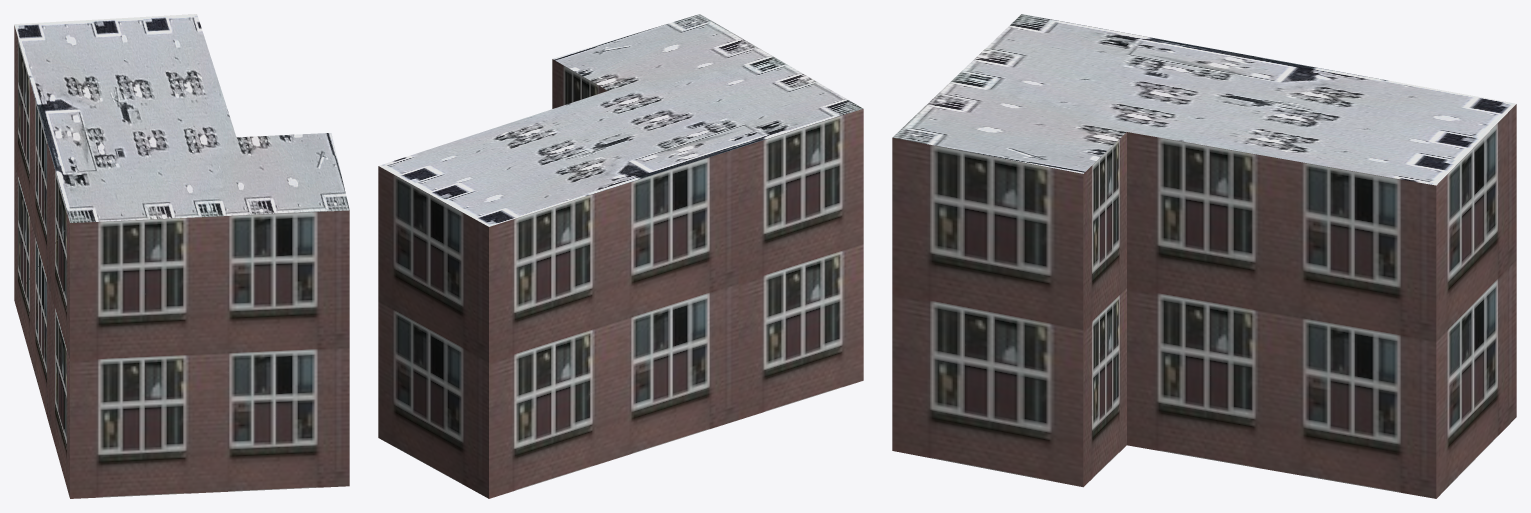
The model's file is ResTex__2569.fbx.
3 renders of one model, left to right at view 1: azimuth 30°, elevation 25°; view 2: azimuth 150°, elevation 25°; view 3: azimuth 270°, elevation 25°, orthographic. The views are drawn at different scales.
Visible parts, largest first — view 1: CityEngineMaterial_12_m, CityEngineMaterial_8_m; view 2: CityEngineMaterial_12_m, CityEngineMaterial_8_m; view 3: CityEngineMaterial_12_m, CityEngineMaterial_8_m.
Boxes of the visible parts, bbox=[...] form: CityEngineMaterial_12_m: bbox=[14, 25, 349, 498]; CityEngineMaterial_8_m: bbox=[14, 14, 349, 222]; CityEngineMaterial_12_m: bbox=[378, 59, 863, 498]; CityEngineMaterial_8_m: bbox=[379, 14, 863, 226]; CityEngineMaterial_12_m: bbox=[892, 104, 1516, 498]; CityEngineMaterial_8_m: bbox=[892, 14, 1516, 185].
Size of the model in its own units: 7.05 by 6 by 10.83.
2 materials, 2 textured.
